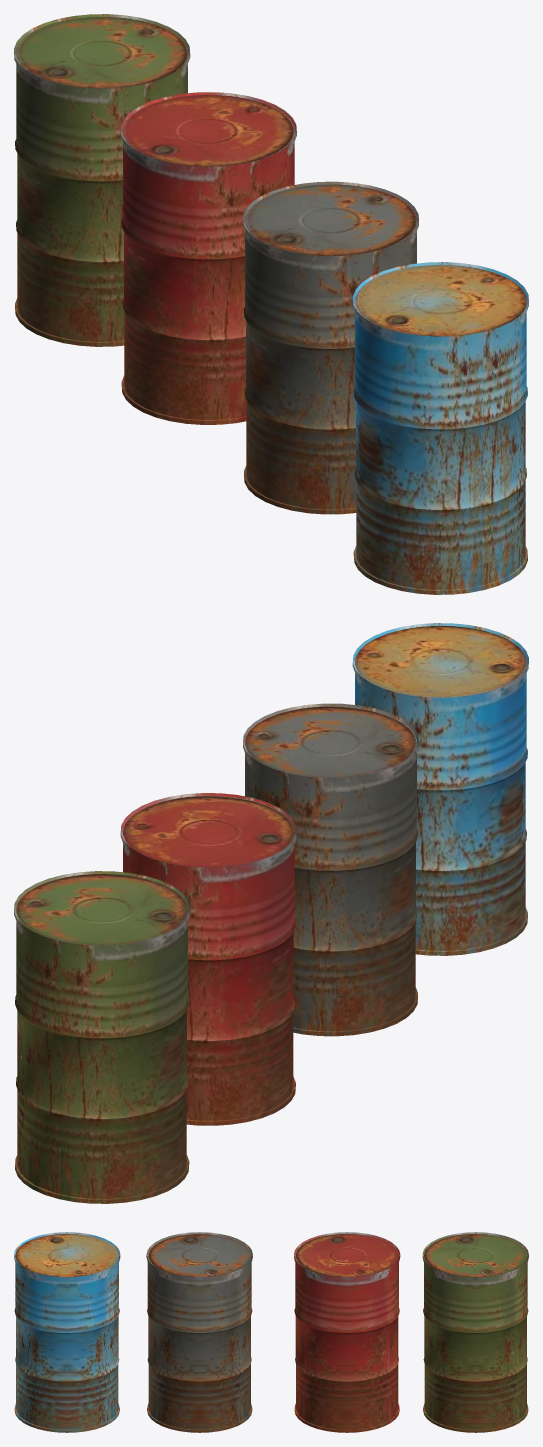
File: barrel.glb
3 renders of one model, top to bottom at view 1: azimuth 30°, elevation 25°; view 2: azimuth 150°, elevation 25°; view 3: azimuth 270°, elevation 25°, orthographic. The views are drawn at different scales.
Parts seen in each view (by area): view 1: Object_4; view 2: Object_4; view 3: Object_4.
Boxes of the visible parts, x1,y1,x2,y2 form: Object_4: [14, 14, 528, 594]; Object_4: [14, 623, 528, 1203]; Object_4: [14, 1232, 528, 1432].
Size of the model in its own units: 8.57 by 13.85 by 41.43.
Materials: 1 (1 with a texture image).
